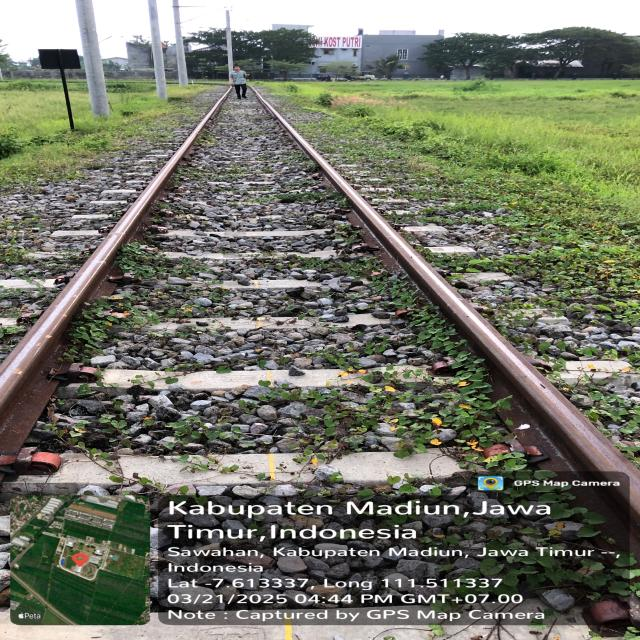rail-detection: (260, 97, 640, 560), (0, 100, 222, 420)
